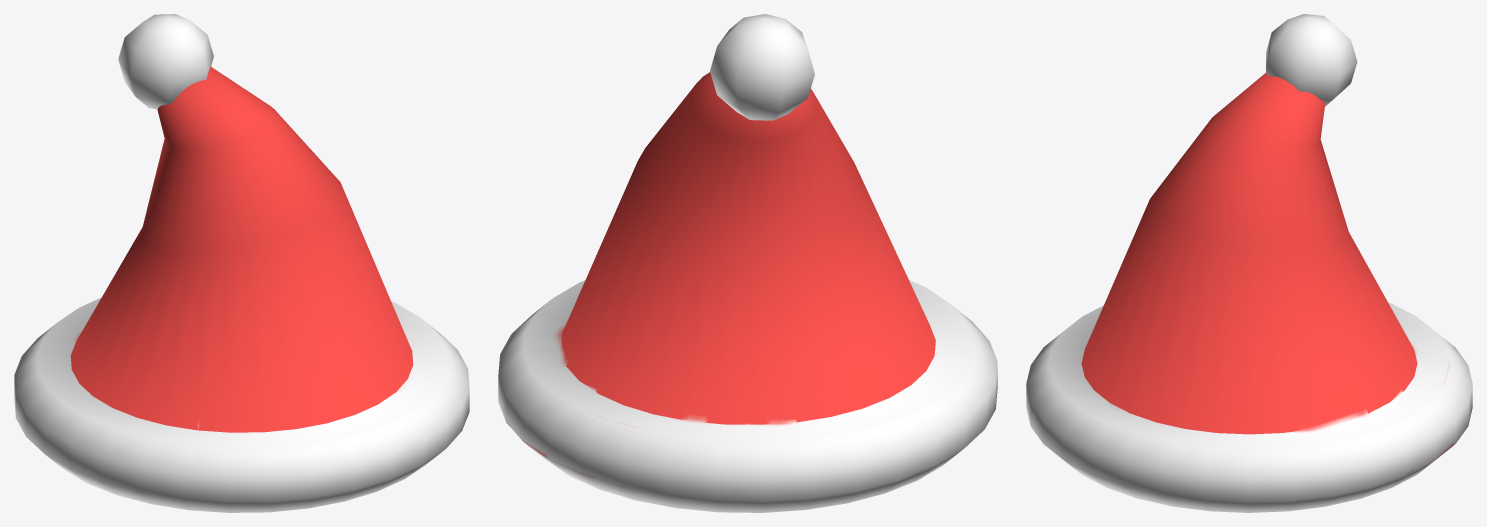
Rendered from Hat.gltf.
3 views of the same model, side by side, from view 1: azimuth 30°, elevation 25°; view 2: azimuth 150°, elevation 25°; view 3: azimuth 270°, elevation 25° (orthographic). The views are drawn at different scales.
Visible parts, largest first — view 1: Cylinder, Sphere; view 2: Cylinder, Sphere; view 3: Cylinder, Sphere.
Boxes of the visible parts, x1,y1,x2,y2 form: Cylinder: (14, 67, 469, 512); Sphere: (118, 14, 213, 109); Cylinder: (498, 72, 997, 512); Sphere: (710, 14, 814, 120); Cylinder: (1026, 72, 1472, 512); Sphere: (1266, 14, 1357, 106).
Size of the model in its own units: 2 by 1.92 by 2.
Materials: 2 (1 with a texture image).
